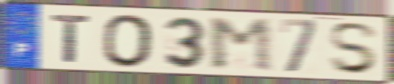3: (162, 15, 209, 70)
7: (278, 16, 318, 76)
M: (206, 17, 277, 74)
O: (101, 12, 155, 69)
S: (327, 21, 381, 76)
T: (50, 13, 93, 65)
